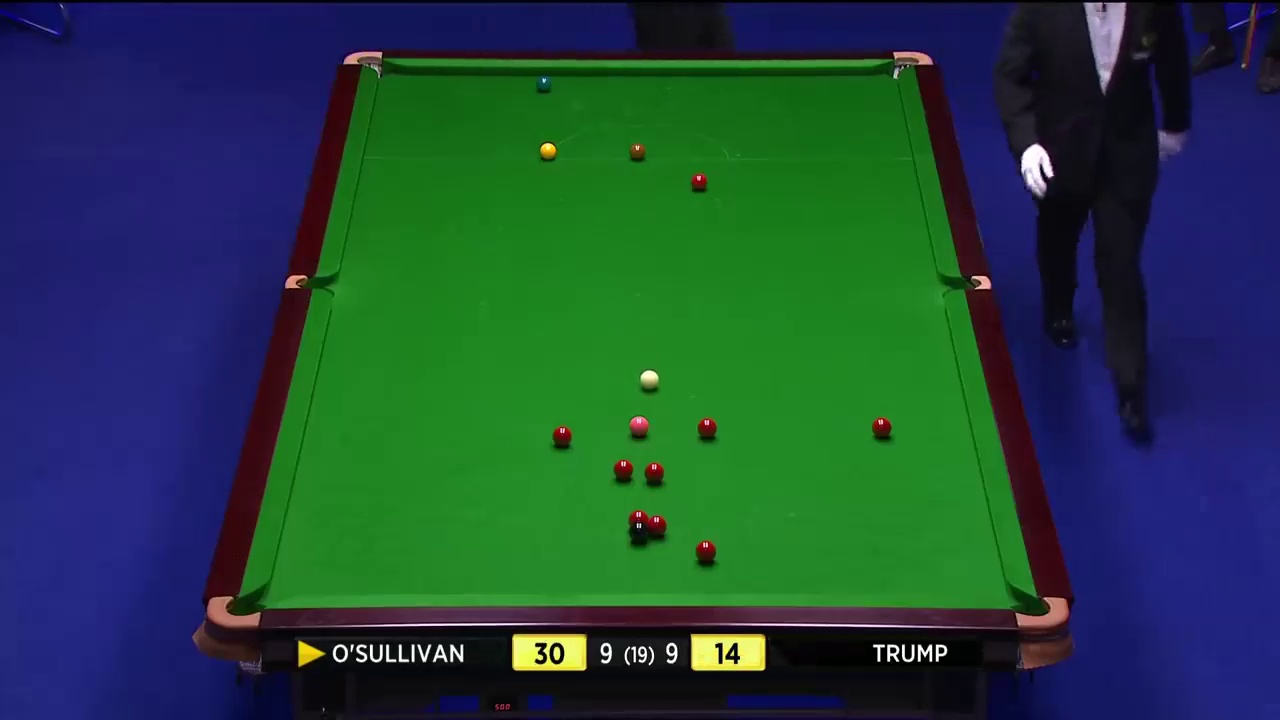ball: (635, 369, 660, 391), (694, 540, 717, 561), (643, 460, 665, 481), (552, 425, 572, 445), (698, 417, 716, 437), (613, 458, 633, 476), (873, 417, 892, 434), (628, 416, 647, 432), (627, 144, 645, 160), (689, 172, 707, 187), (539, 143, 556, 158)
